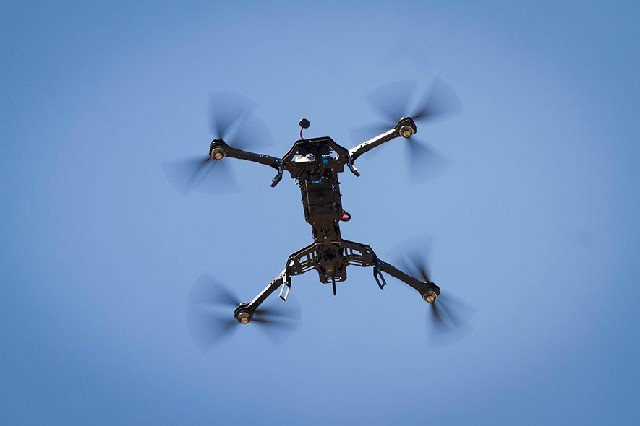maybay_khongnguoilai: (149, 89, 466, 324)
